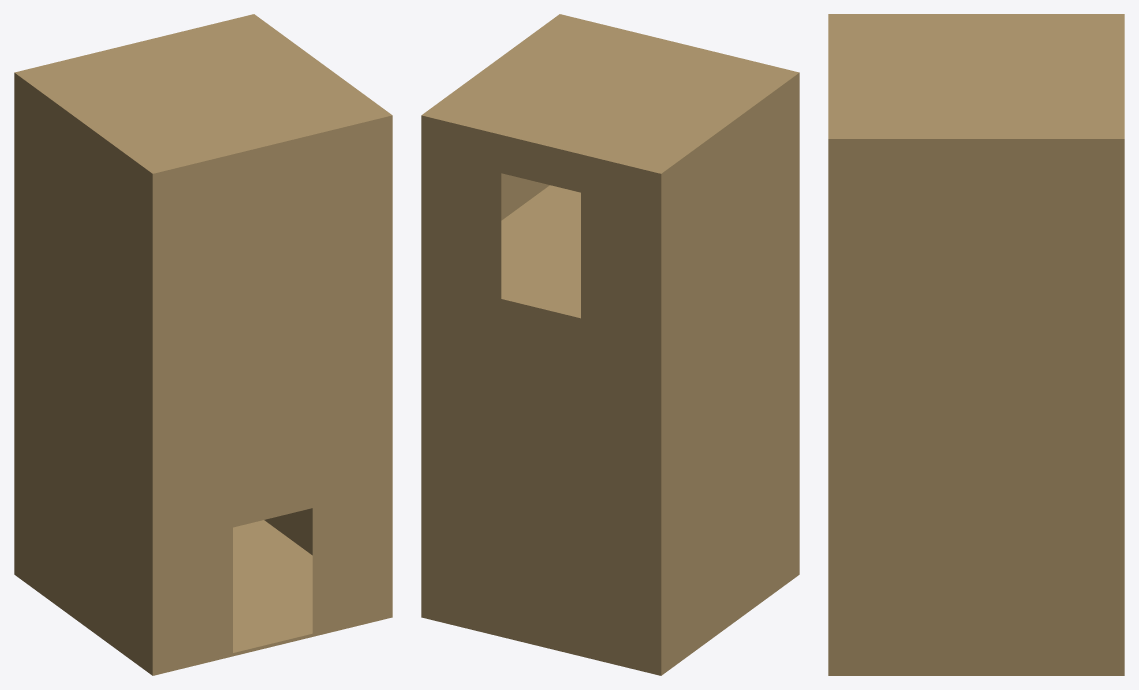
File: Room7.fbx
3 renders of one model, left to right at view 1: azimuth 30°, elevation 25°; view 2: azimuth 150°, elevation 25°; view 3: azimuth 270°, elevation 25°, orthographic. The views are drawn at different scales.
Visible parts, largest first — view 1: Cube; view 2: Cube, Cube.002, Cube.001; view 3: Cube, Cube.001.
Boxes of the visible parts, bbox=[...] form: Cube: bbox=[14, 14, 392, 675]; Cube: bbox=[421, 14, 799, 675]; Cube.002: bbox=[421, 185, 799, 340]; Cube.001: bbox=[421, 407, 798, 509]; Cube: bbox=[828, 14, 1124, 675]; Cube.001: bbox=[828, 495, 1124, 498].
Bounding box in the file's own units: 7500 × 15000 × 7500.
